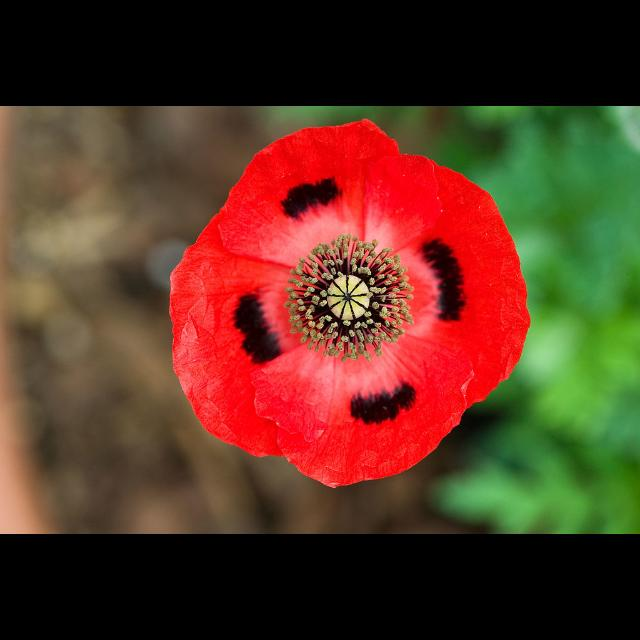Flower: (171, 115, 533, 493)
